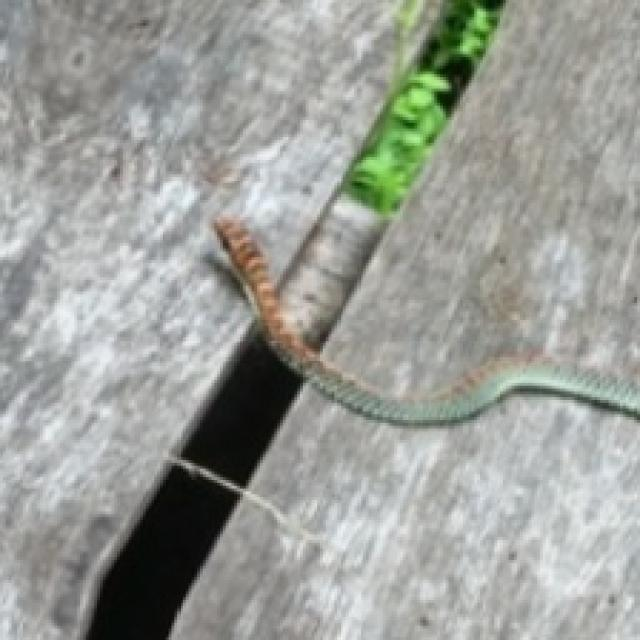paradise tree snake: (211, 214, 637, 423)
